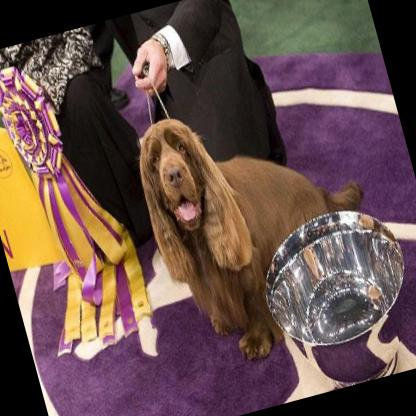Sussex_spaniel: (123, 70, 398, 376)
